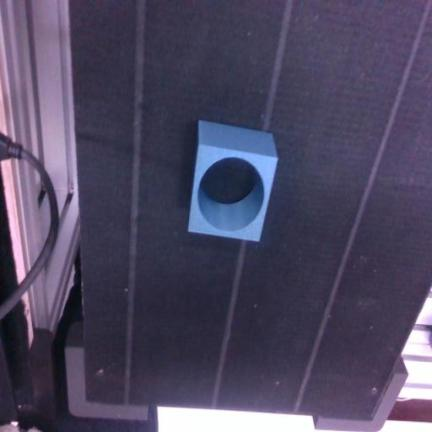hole: (189, 121, 277, 241)
